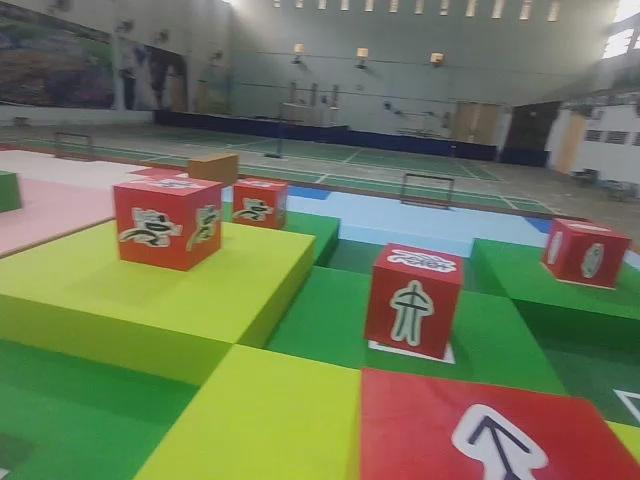R1: (109, 175, 224, 273), (233, 177, 292, 229)
R2 Fake: (362, 240, 464, 361)
R2 Real: (355, 366, 640, 480), (540, 219, 630, 291)
